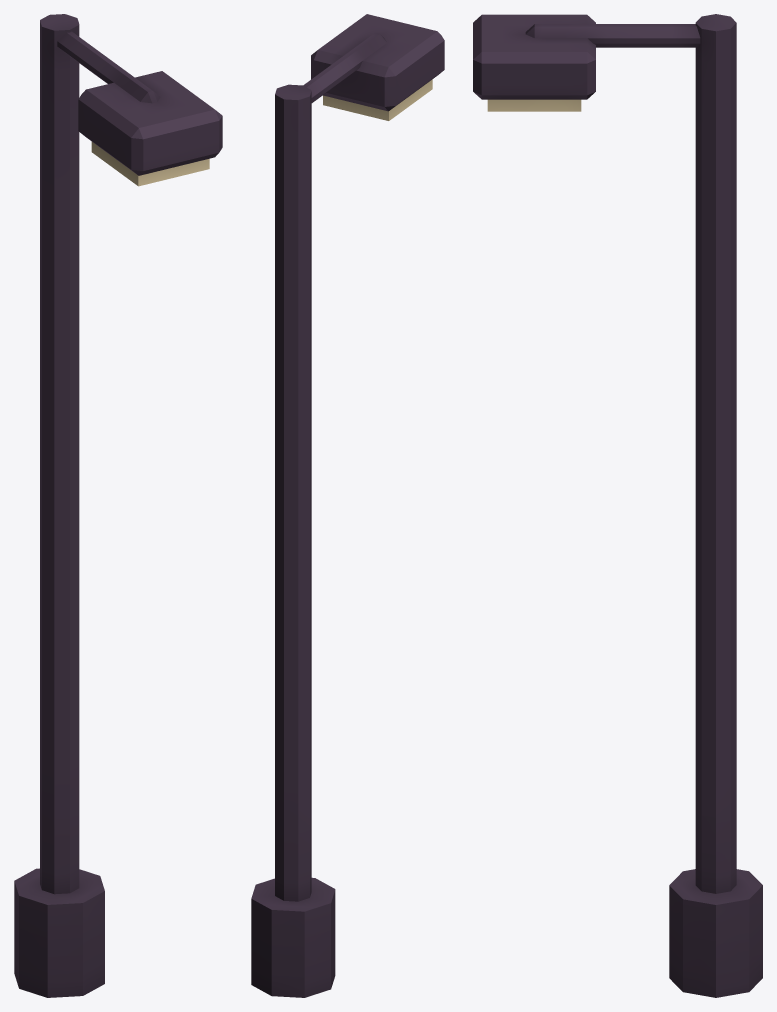
Rendered from StartKit_Lamp.fbx.
3 renders of one model, left to right at view 1: azimuth 30°, elevation 25°; view 2: azimuth 150°, elevation 25°; view 3: azimuth 270°, elevation 25°, orthographic. The views are drawn at different scales.
Visible parts, largest first — view 1: Lamp.001; view 2: Lamp.001; view 3: Lamp.001.
Part boxes in pixels (x1,y1,x2,y2): Lamp.001: (14, 14, 222, 997); Lamp.001: (251, 14, 444, 997); Lamp.001: (473, 14, 762, 997).
Bounding box in the file's own units: 0.36 × 3.6 × 0.99.
1 material, 1 textured.
